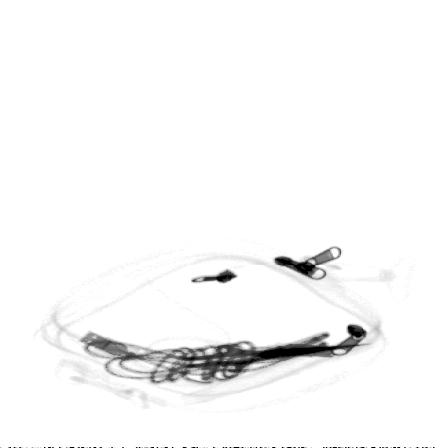Scissors: (141, 338, 372, 388)
